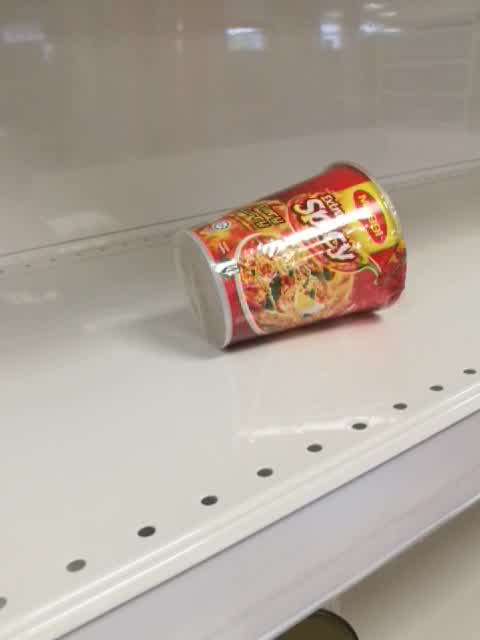maggi: (177, 161, 408, 351)
